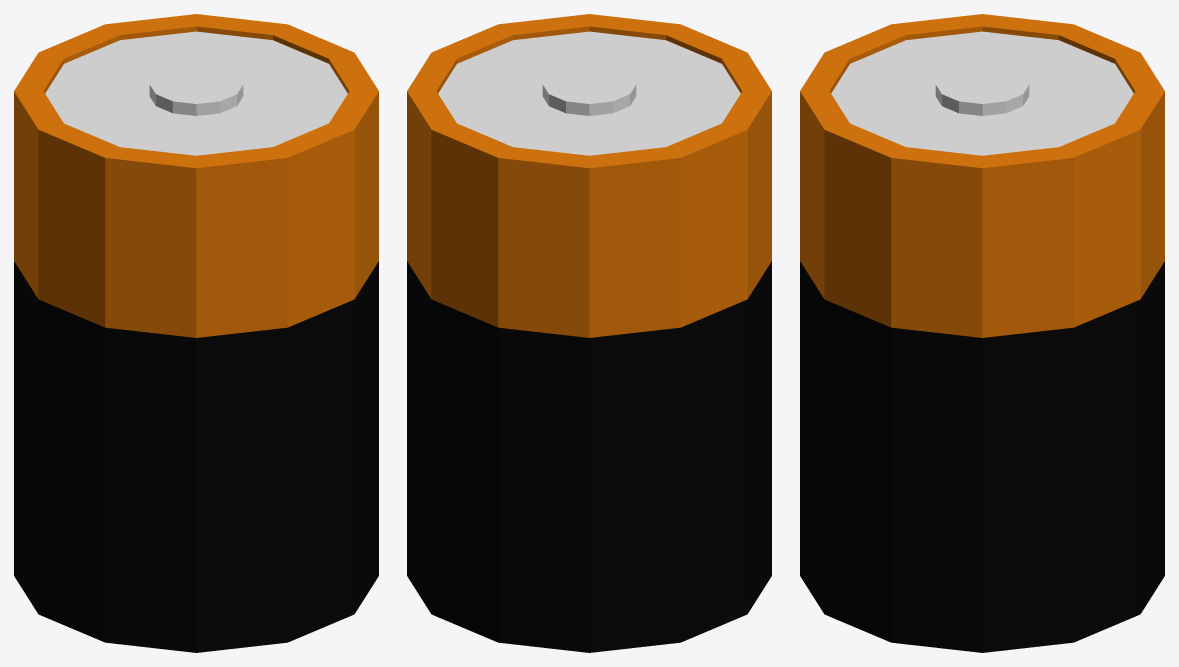
Rendered from Battery.fbx.
The picture shows the model from 3 angles, left to right: view 1: azimuth 30°, elevation 25°; view 2: azimuth 150°, elevation 25°; view 3: azimuth 270°, elevation 25°; orthographic projection.
Visible parts, largest first — view 1: Cylinder; view 2: Cylinder; view 3: Cylinder.
Part boxes in pixels (x1,y1,x2,y2): Cylinder: [14, 14, 378, 652]; Cylinder: [407, 14, 771, 652]; Cylinder: [800, 14, 1164, 652].
Size of the model in its own units: 9.58 by 14.44 by 9.58.
